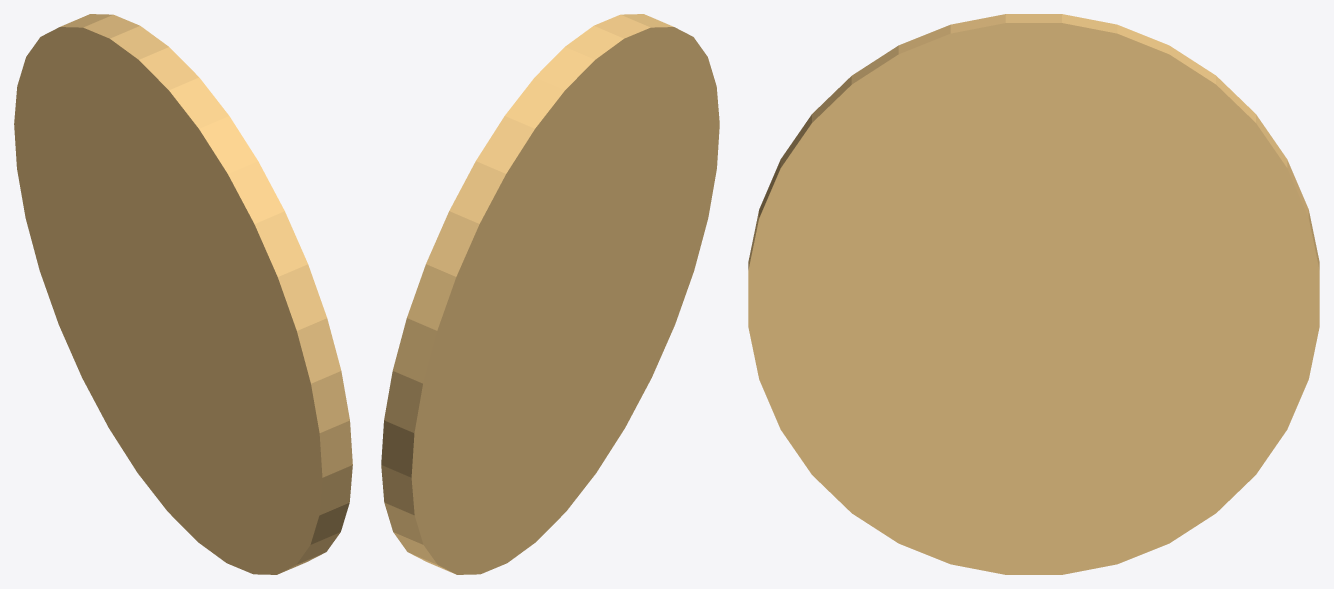
Rendered from pioneer_Pioneer_p3dx_visible_vis_26.dae.
The picture shows the model from 3 angles, left to right: view 1: azimuth 30°, elevation 25°; view 2: azimuth 150°, elevation 25°; view 3: azimuth 270°, elevation 25°; orthographic projection. The views are drawn at different scales.
Parts seen in each view (by area): view 1: Node_0x733e6afbab90; view 2: Node_0x733e6afbab90; view 3: Node_0x733e6afbab90.
Part boxes in pixels (x1=…): Node_0x733e6afbab90: x1=14, y1=14, x2=352, y2=574; Node_0x733e6afbab90: x1=381, y1=14, x2=719, y2=574; Node_0x733e6afbab90: x1=748, y1=14, x2=1319, y2=574.
Bounding box in the file's own units: 0.00825 × 0.0353 × 0.0355.
